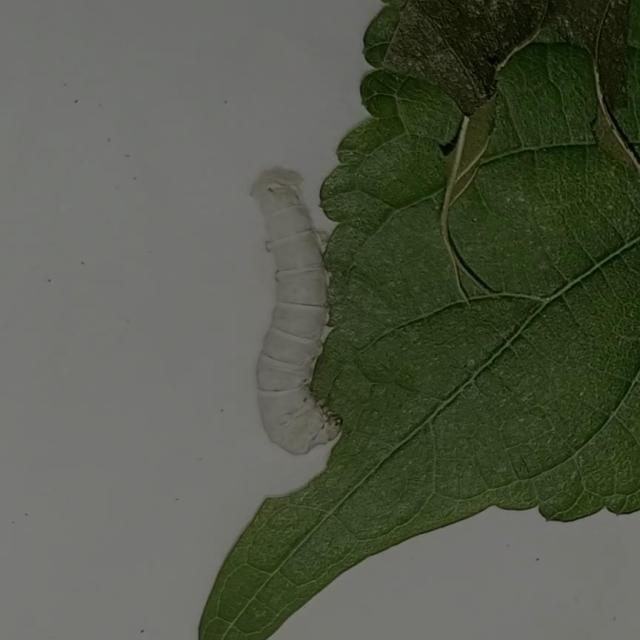Healthy: (230, 132, 398, 476)
